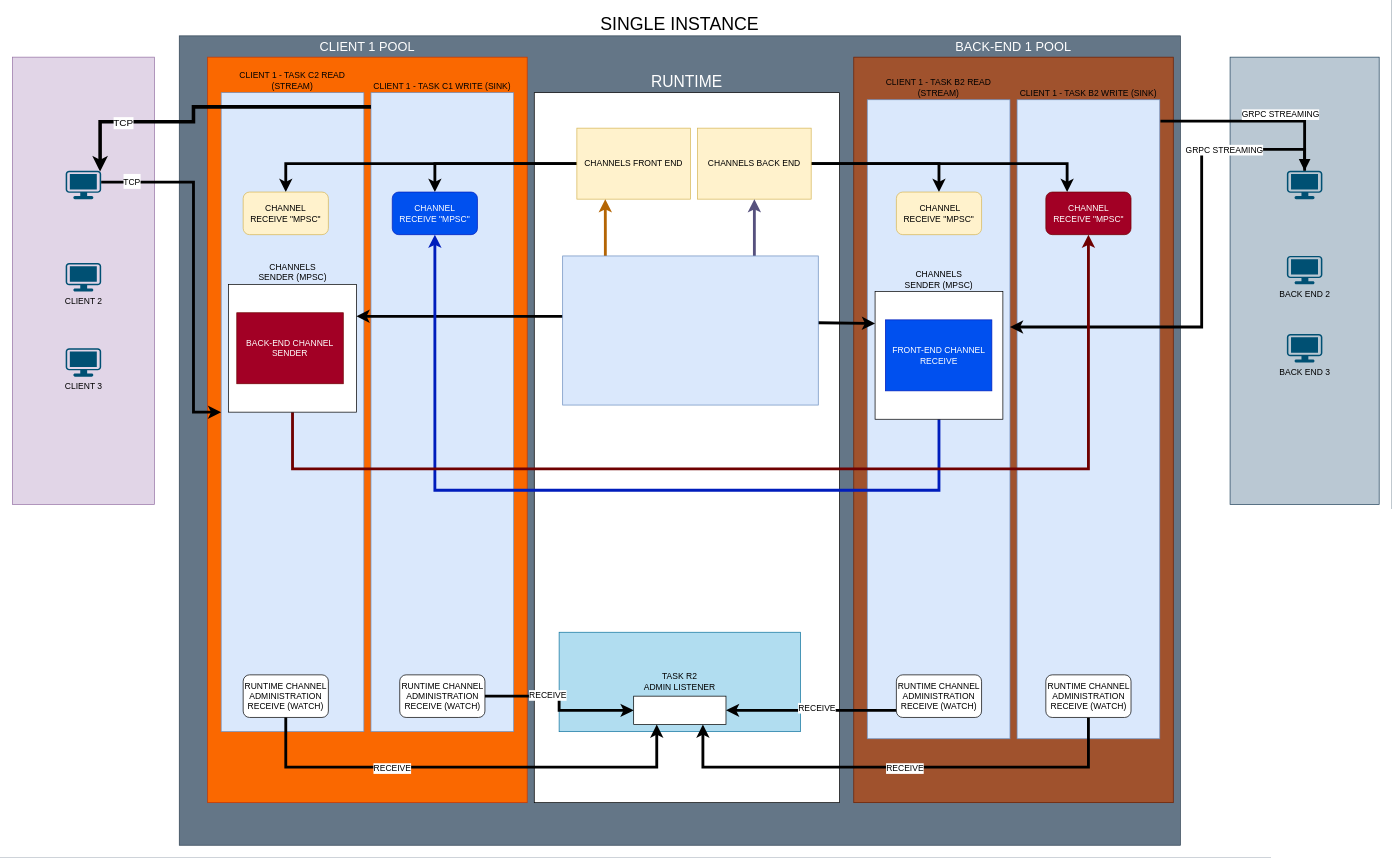
The diagram is 1392 pixels wide and 858 high, and some of its shapes have lost their labels. Here are the shapes that lost their labels. From the top down, the centre of each, then its label:
the point at 83,184: CLIENT 1
the point at 1304,184: BACK END 1
the point at 690,330: TASK R1 RETRIEVE BACK/FRONT END CHANNEL
the point at 679,710: CHANNELS RECEIVE (MPSC)
